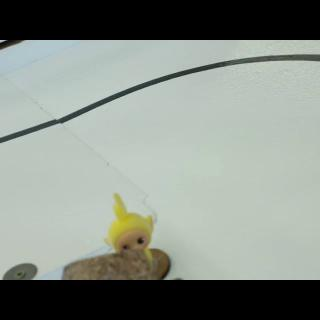teletubby: (104, 193, 153, 260)
